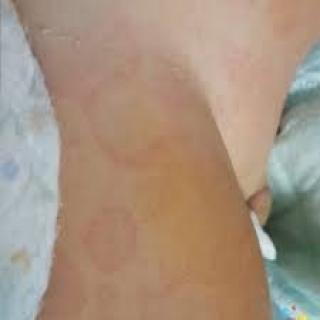urticaria: (64, 40, 219, 320)
